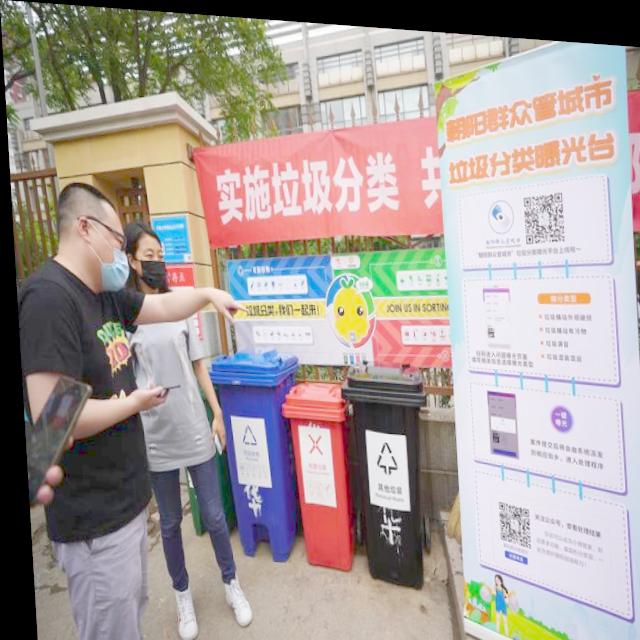garbage_bin: (334, 357, 431, 586), (203, 341, 304, 560), (275, 375, 351, 567)
